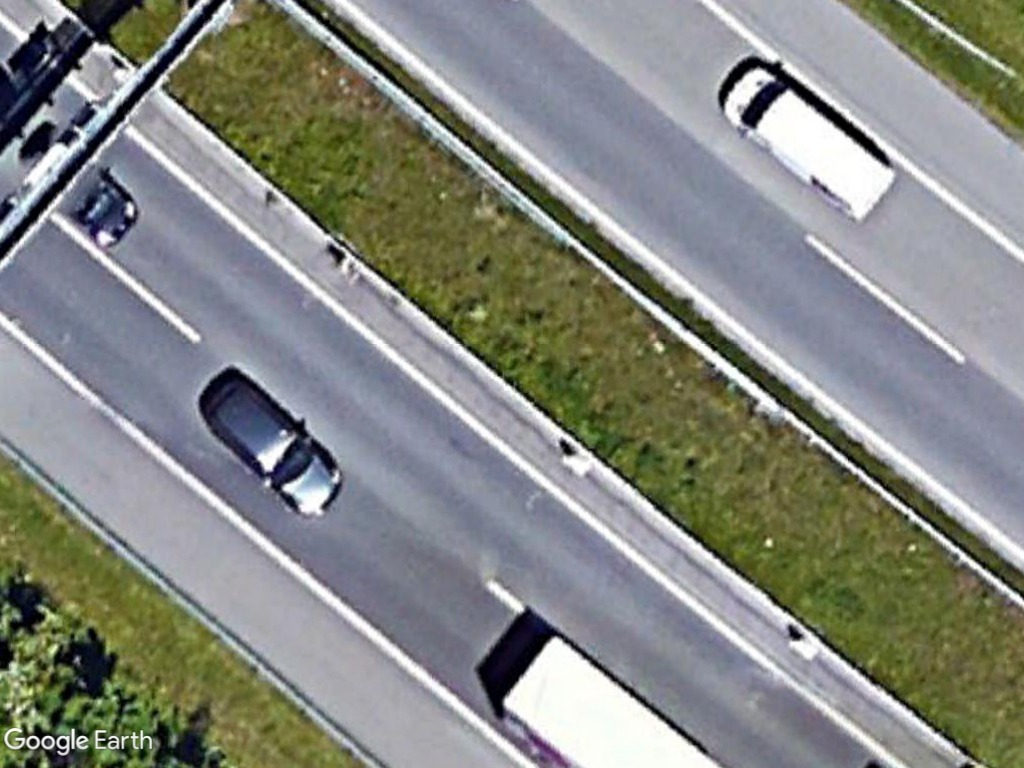car: (203, 371, 351, 527)
van: (715, 58, 908, 233)
